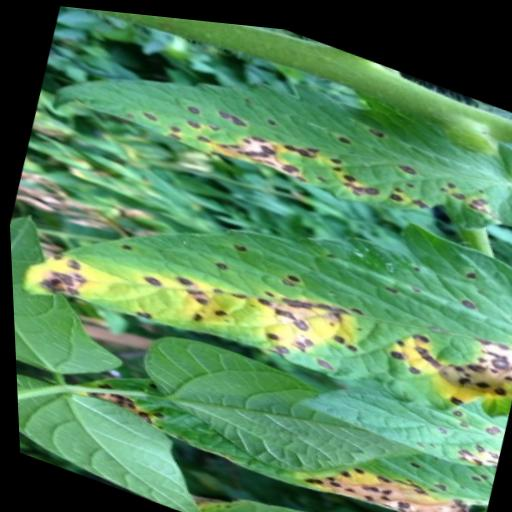Healthy: (120, 314, 430, 507), (12, 356, 226, 512), (7, 203, 155, 402)
Septoria: (8, 116, 512, 456), (48, 4, 512, 259), (290, 331, 508, 472), (179, 432, 475, 512)
